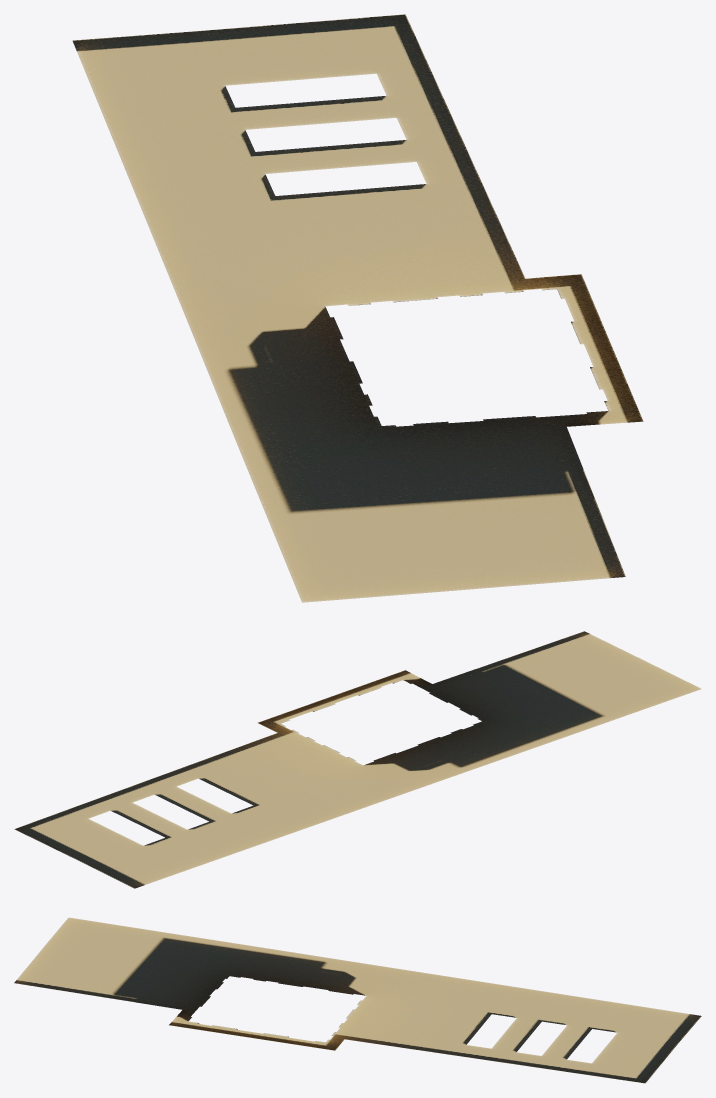
File: Building_08_Rooftop.fbx
3 renders of one model, top to bottom at view 1: azimuth 30°, elevation 25°; view 2: azimuth 150°, elevation 25°; view 3: azimuth 270°, elevation 25°, orthographic. The views are drawn at different scales.
Parts seen in each view (by area): view 1: Building_08_Rooftop; view 2: Building_08_Rooftop; view 3: Building_08_Rooftop.
Boxes of the visible parts, bbox=[...] form: Building_08_Rooftop: bbox=[72, 14, 643, 602]; Building_08_Rooftop: bbox=[14, 631, 701, 888]; Building_08_Rooftop: bbox=[14, 917, 701, 1083].
Bounding box in the file's own units: 43.12 × 0.000444 × 75.51.
1 material, 1 textured.
